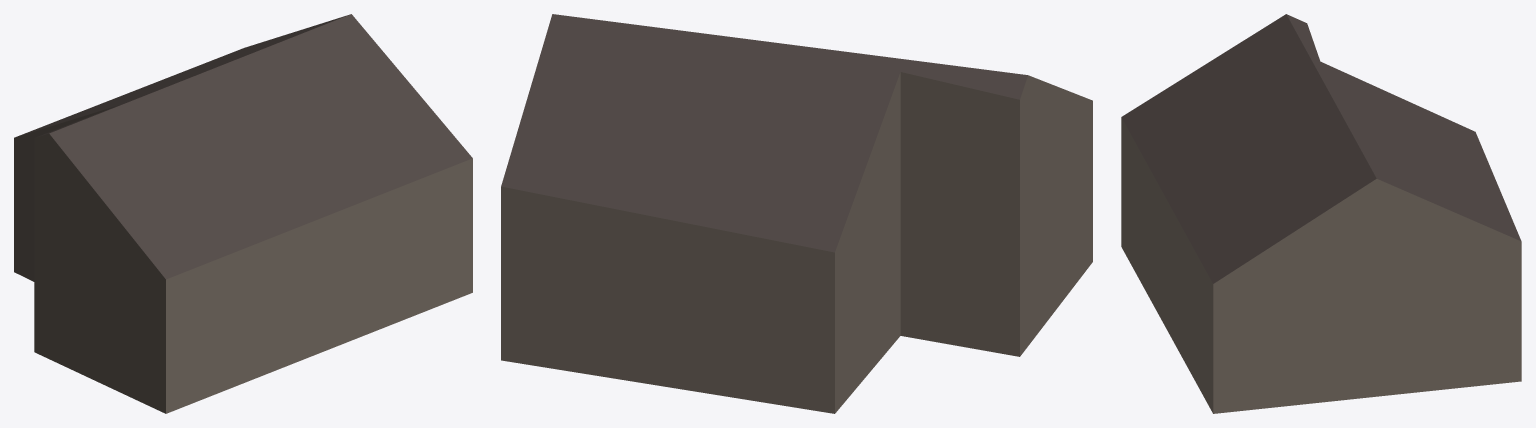
The picture shows the model from 3 angles, left to right: view 1: azimuth 30°, elevation 25°; view 2: azimuth 150°, elevation 25°; view 3: azimuth 270°, elevation 25°; orthographic projection. The views are drawn at different scales.
Parts seen in each view (by area): view 1: HP-w1512911282; view 2: HP-w1512911282; view 3: HP-w1512911282.
Boxes of the visible parts, x1,y1,x2,y2 form: HP-w1512911282: (14, 14, 472, 413); HP-w1512911282: (501, 14, 1092, 413); HP-w1512911282: (1121, 14, 1521, 413).
Bounding box in the file's own units: 18.22 × 10.08 × 16.76.
